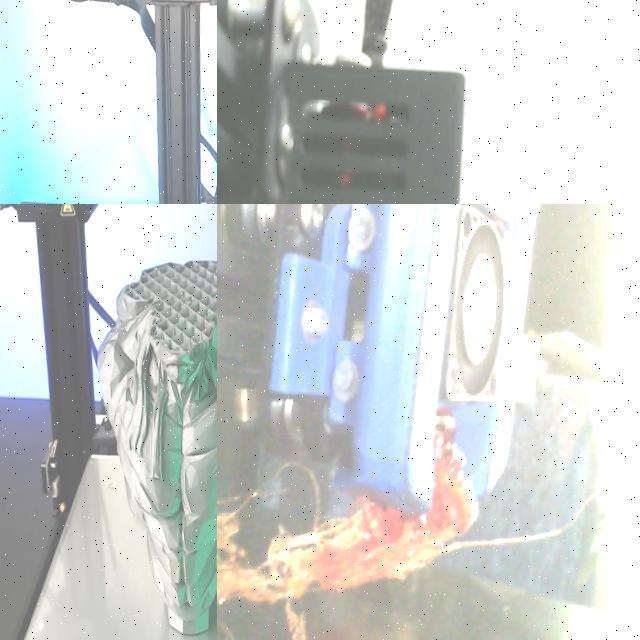spaghetti: (217, 411, 497, 640), (217, 408, 477, 640)
